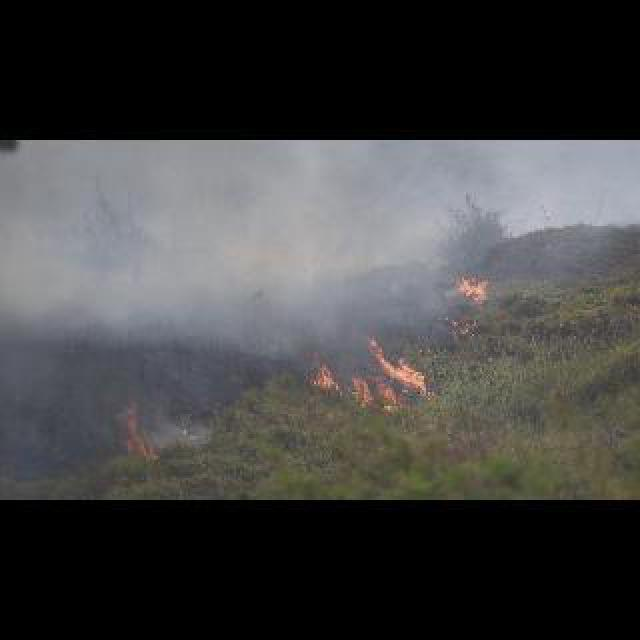zfire: (372, 338, 426, 388), (114, 402, 158, 454), (350, 376, 398, 410), (306, 356, 336, 394), (458, 278, 486, 298)
